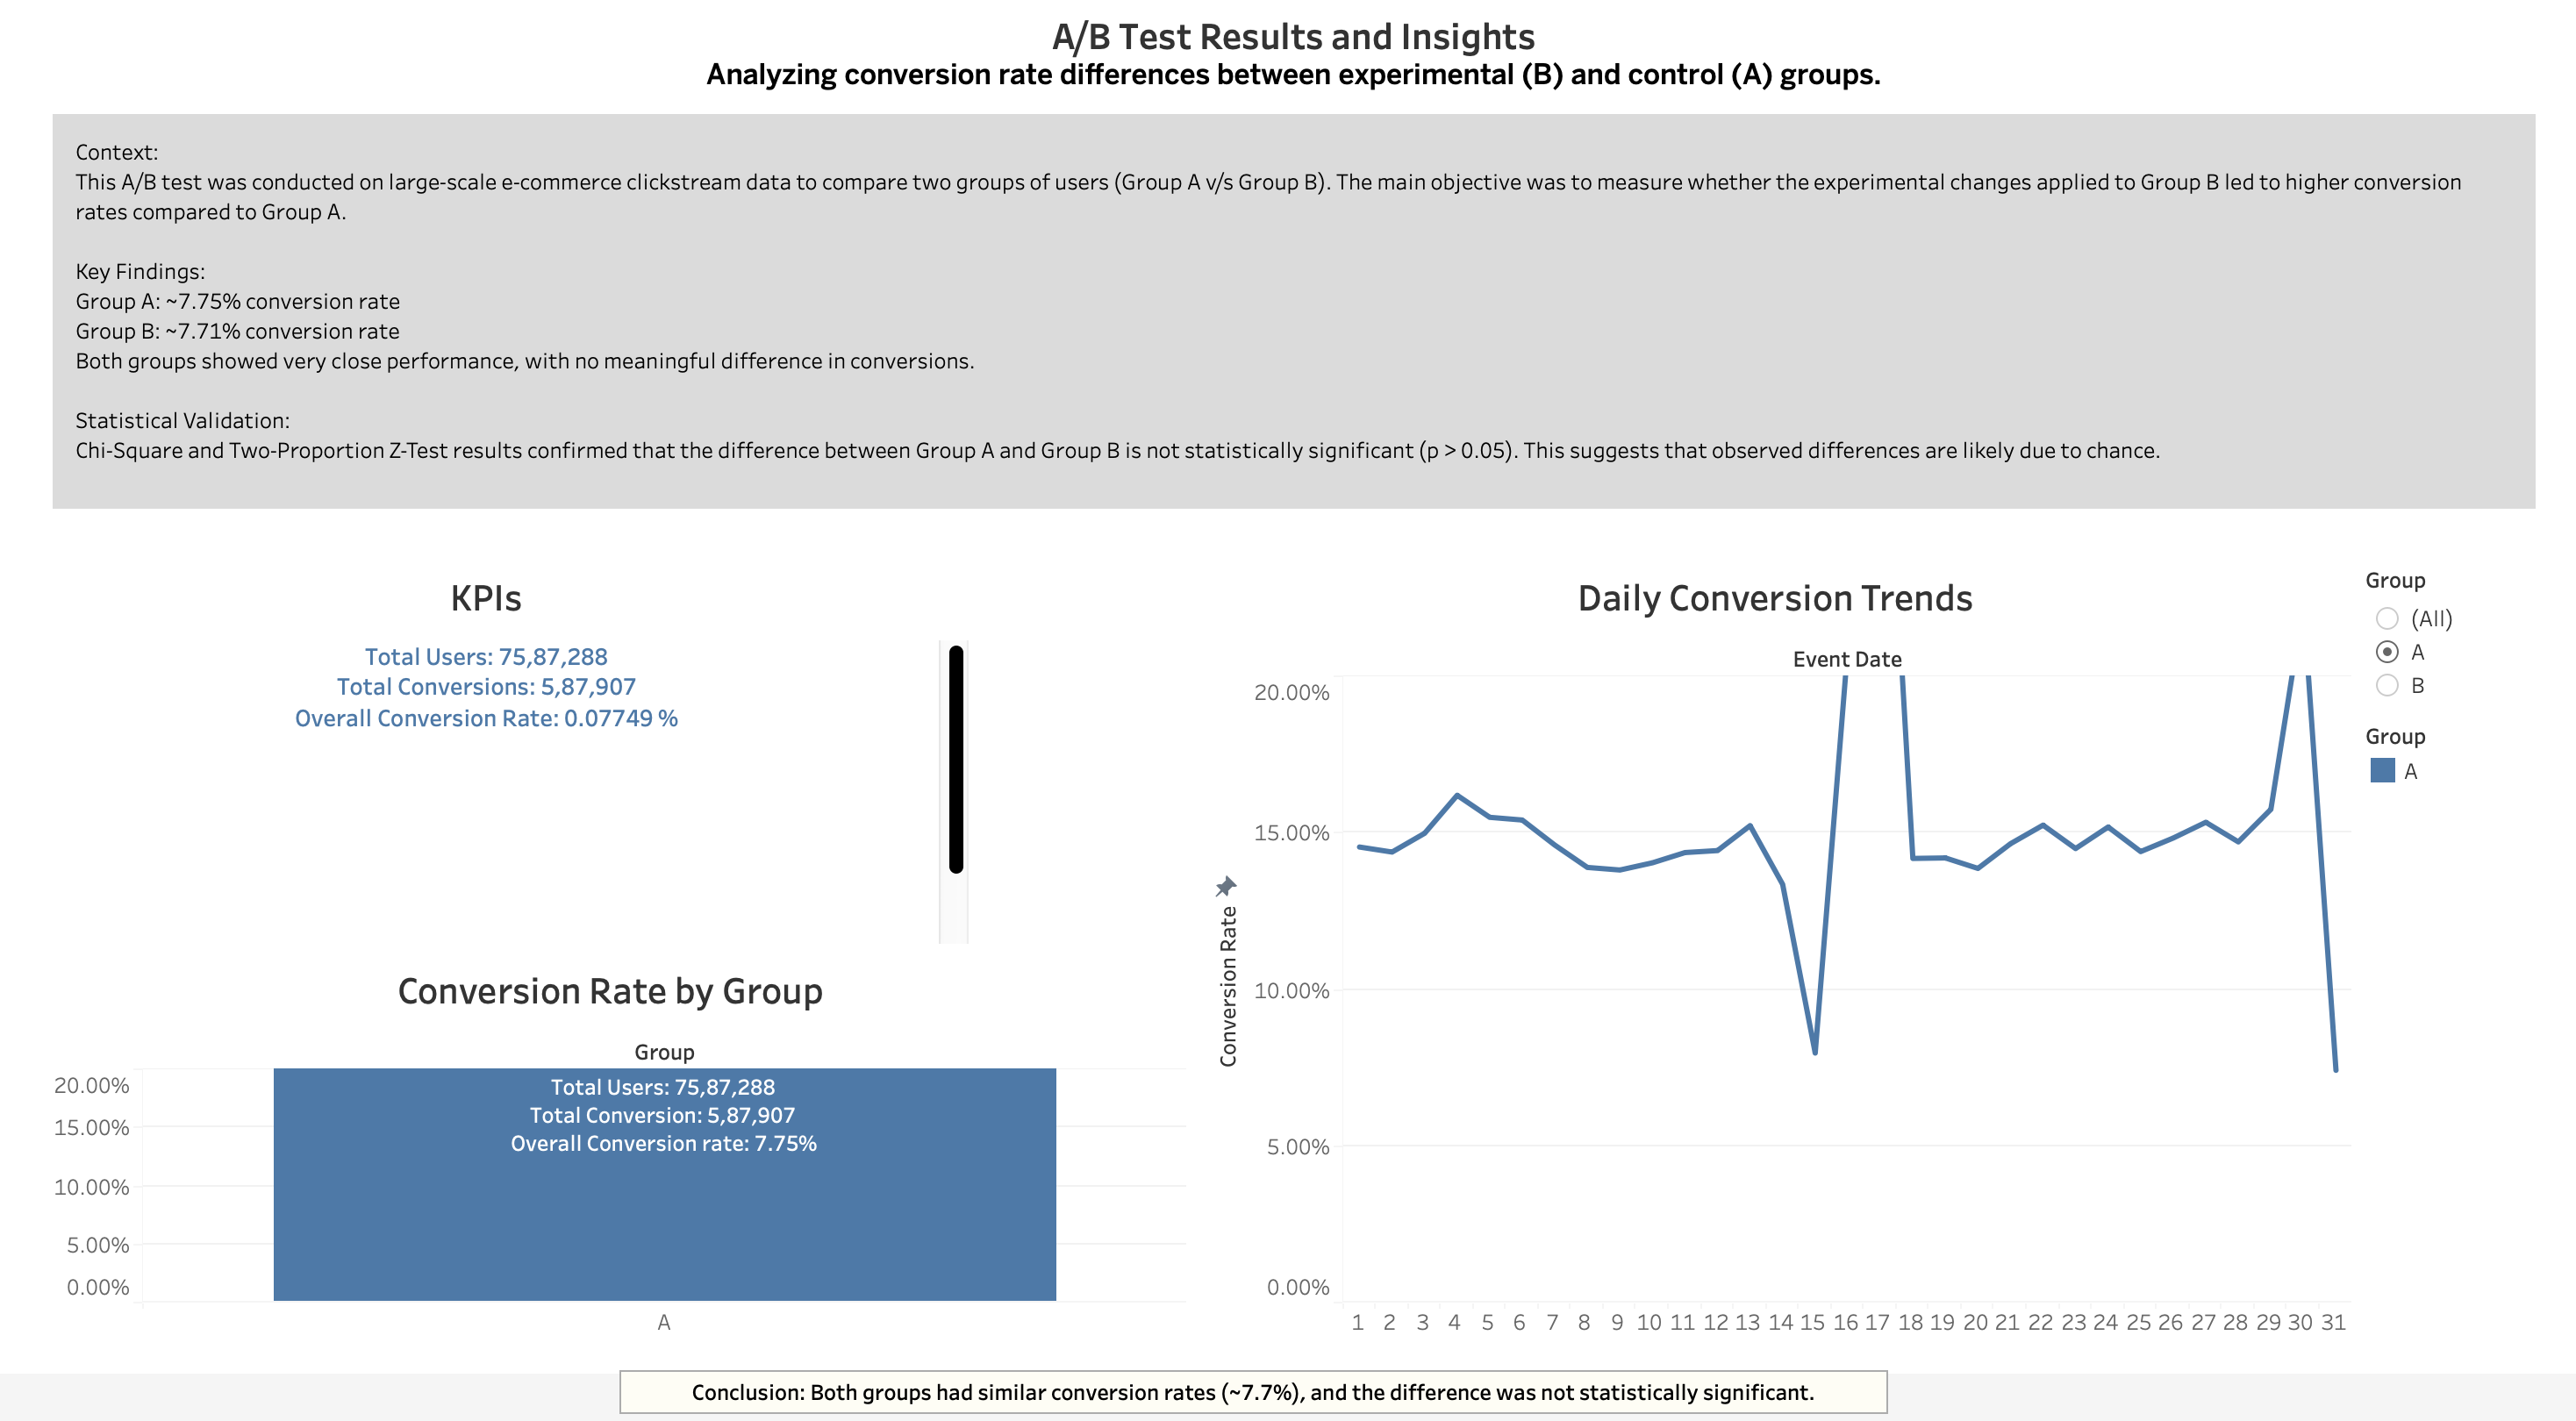

The dashboard page shown, as its layout file describes it:
{"tool":"tableau","page":{"name":"Conversion Rate Analysis – A vs B","canvas":[1450,465],"ordinal":0},"visuals":[{"type":"worksheet","title":"KPIs","mark":"Automatic","box":[8,8,664,224]},{"type":"worksheet","title":"Daily Conversion Trends","mark":"Automatic","rows":["conversion_rate"],"cols":["event_date"],"box":[672,8,664,449]},{"type":"filter","title":"Daily Conversion Trends","param":"[federated.10rce5p1lybrzi1gsy49z05vx2qw].[none:group:nk]","box":[1336,8,106,89]},{"type":"legend","title":"Conversion Rate by Group","param":"[federated.10rce5p1lybrzi1gsy49z05vx2qw].[none:group:nk]","box":[1336,97,106,66]},{"type":"worksheet","title":"Conversion Rate by Group","mark":"Automatic","rows":["conversion_rate"],"cols":["group"],"box":[8,232,664,225]}]}

Visuals, with their boxes on the page's 1450x465 design canvas (x1, y1, x2, y2). These are canvas units, not pixel positions in the 2576x1421 screenshot, which may show the page scaled, cropped or inside an application window:
"KPIs" worksheet: pyautogui.locateOnScreen(8, 8, 672, 232)
"Daily Conversion Trends" worksheet: pyautogui.locateOnScreen(672, 8, 1336, 457)
"Daily Conversion Trends" filter: pyautogui.locateOnScreen(1336, 8, 1442, 97)
"Conversion Rate by Group" legend: pyautogui.locateOnScreen(1336, 97, 1442, 163)
"Conversion Rate by Group" worksheet: pyautogui.locateOnScreen(8, 232, 672, 457)
